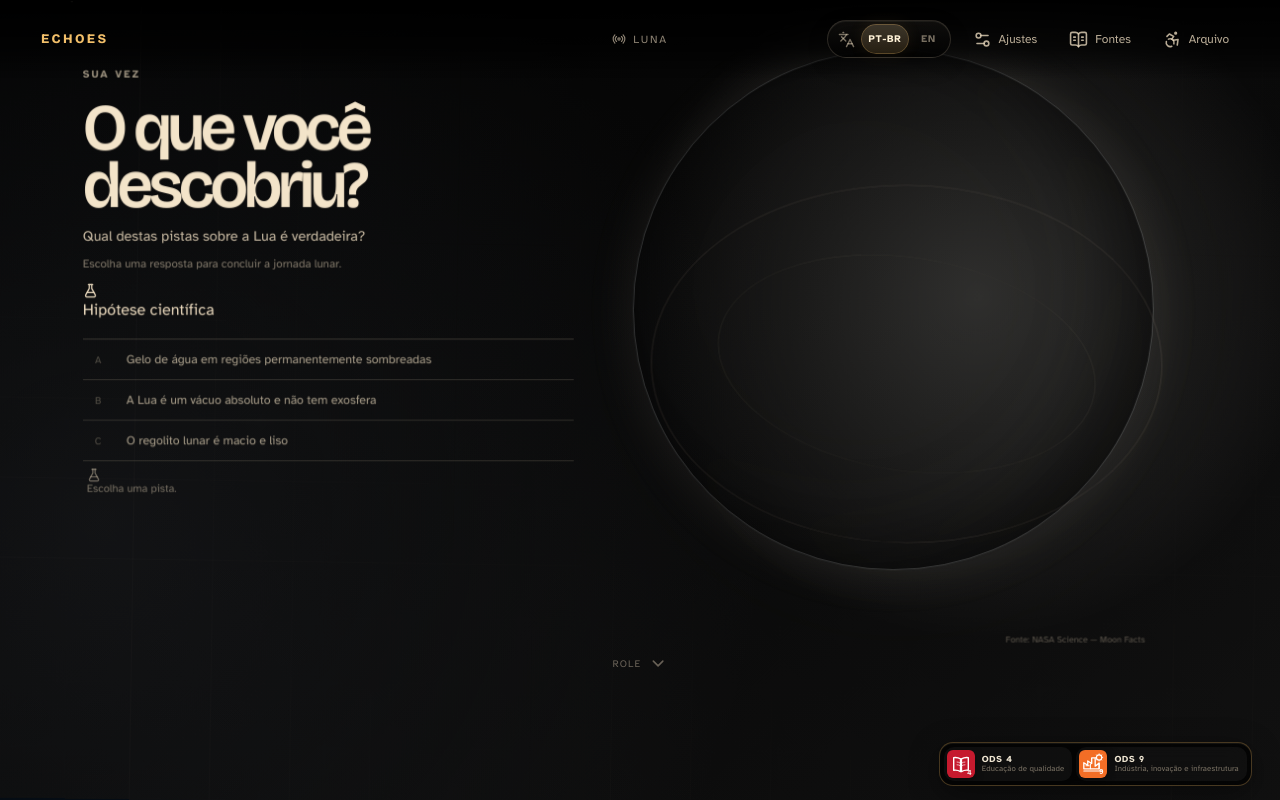
Test: cinematic scroll experience › completes the Moon quiz and only then exposes its finale
This screenshot has width=1280, height=800.
(page scrolled)
Expected: the element "O legado lunar" is not shown
Step 1. Click the button "B A Lua é um vácuo absoluto e não tem exosfera" → {"x": 328, "y": 401}, box [83,380,574,421]
(page scrolled)
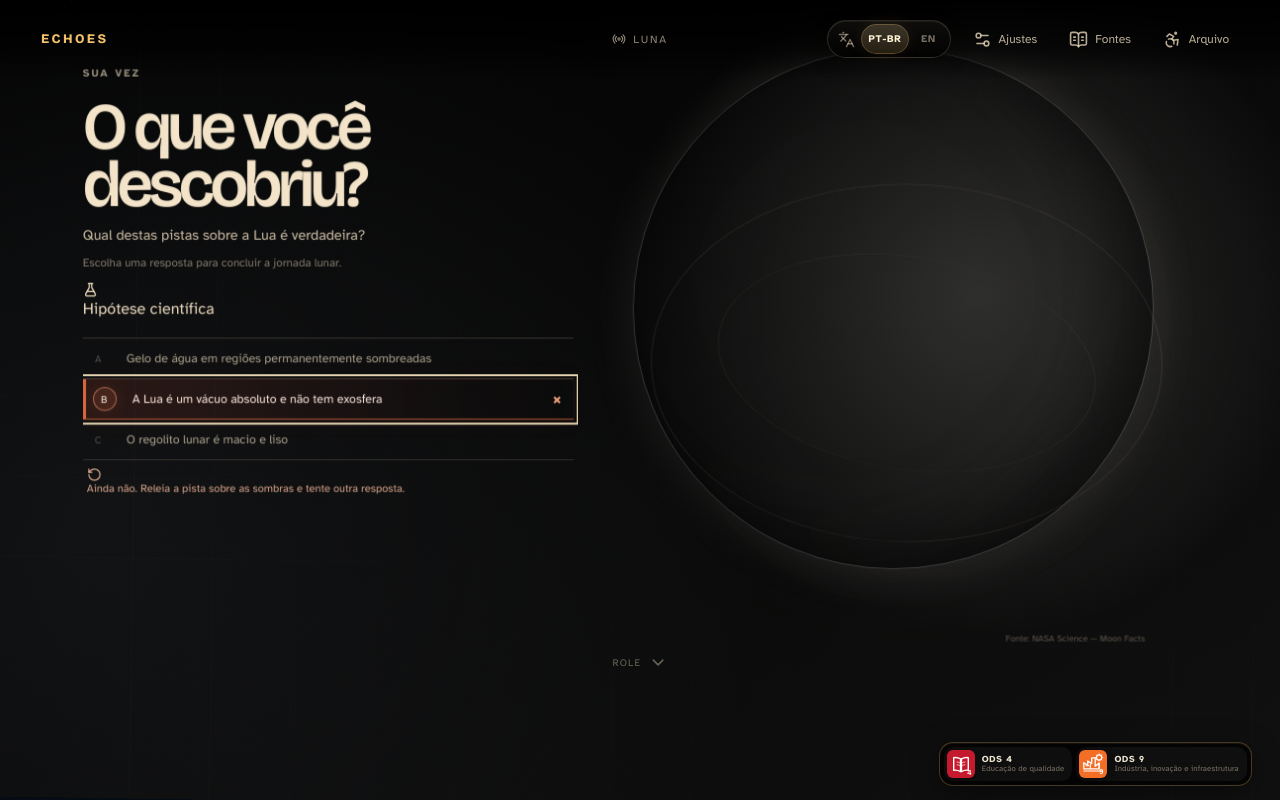
Expected: the button "Ver o legado lunar" is not shown
Now the message reads "Ainda não. Releia a pista sobre as sombras e tente outra resposta.", box [87,482,405,495]
Step 2. Click the button "A Gelo de água em regiões permanentemente sombreadas" → {"x": 328, "y": 359}, box [83,339,574,380]
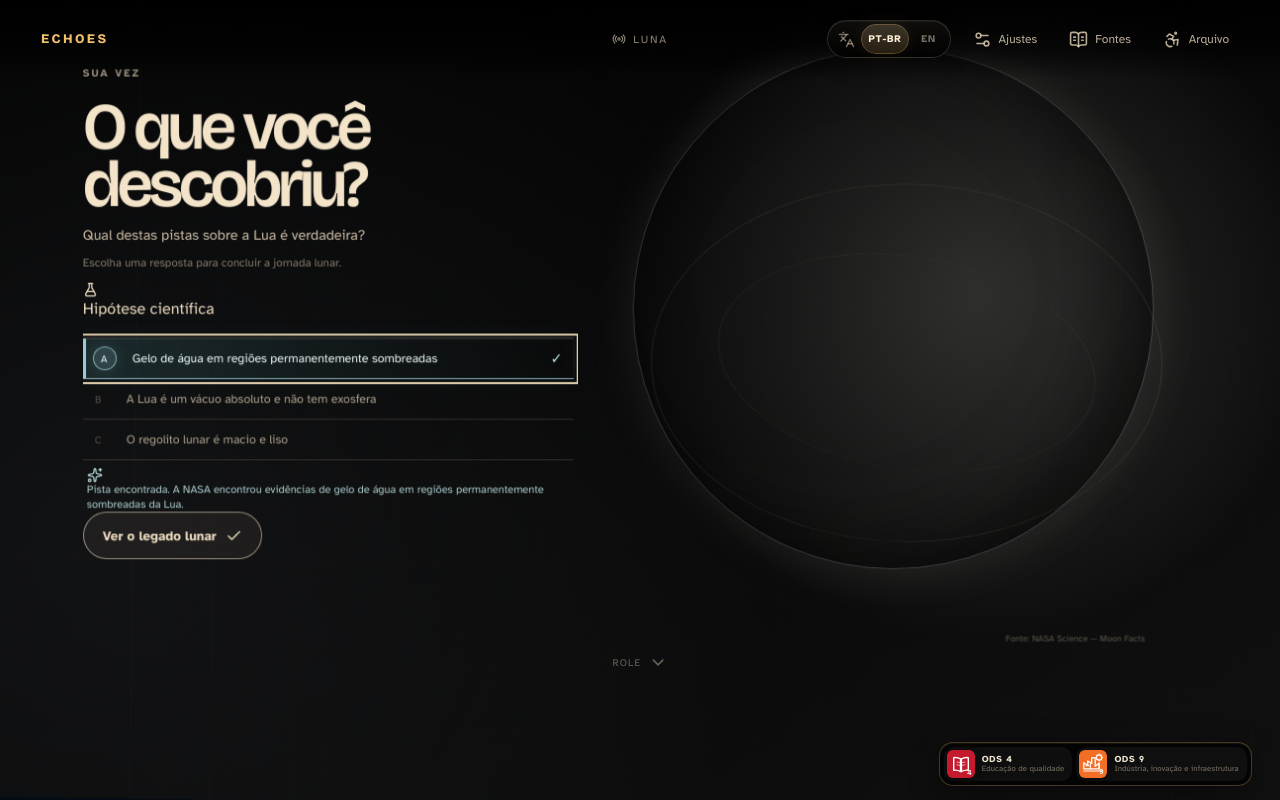
Now the message shows "Pista encontrada. A NASA encontrou evidências de gelo de água em regiões permanentemente sombreadas da Lua.", box [87,483,544,511]
Step 3. Click the button "Ver o legado lunar" → {"x": 172, "y": 536}, box [83,512,262,560]
(page scrolled)
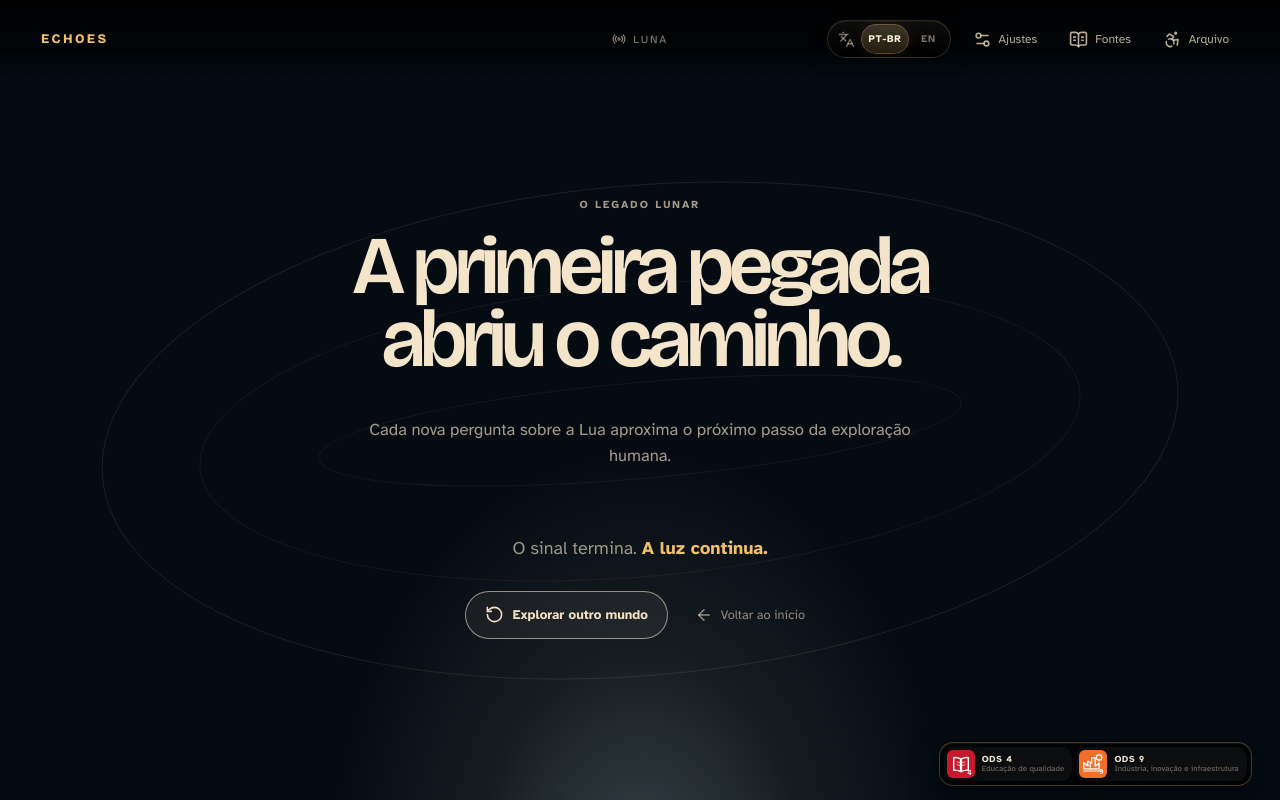
Now the element "O legado lunar" is shown
Now the heading "A primeira pegada abriu o caminho." is shown, box [343,230,937,377]
